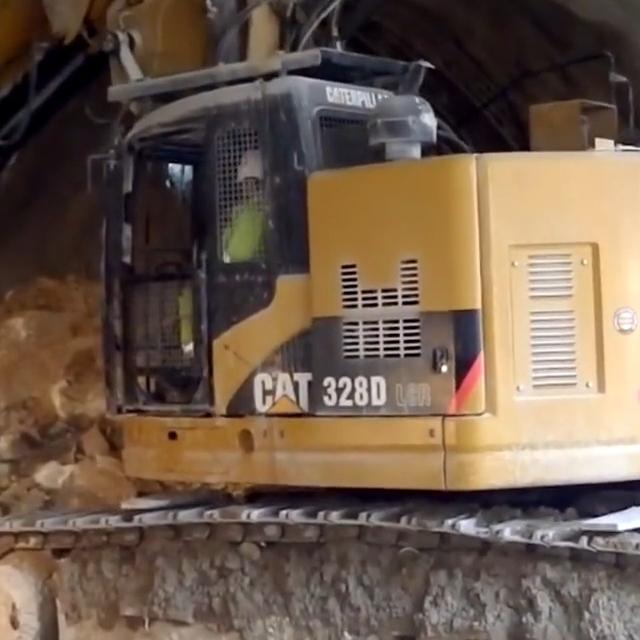Excavator: (0, 0, 640, 640)
Hardhat: (237, 148, 269, 183)
Person: (150, 144, 274, 404)
Safety Vest: (219, 198, 269, 264)
